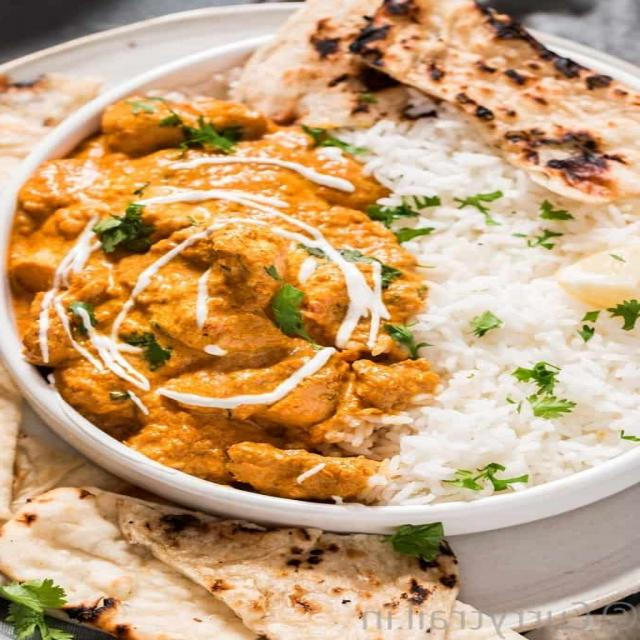Butter Chicken: (5, 89, 424, 499)
White Rice: (348, 140, 639, 482)
